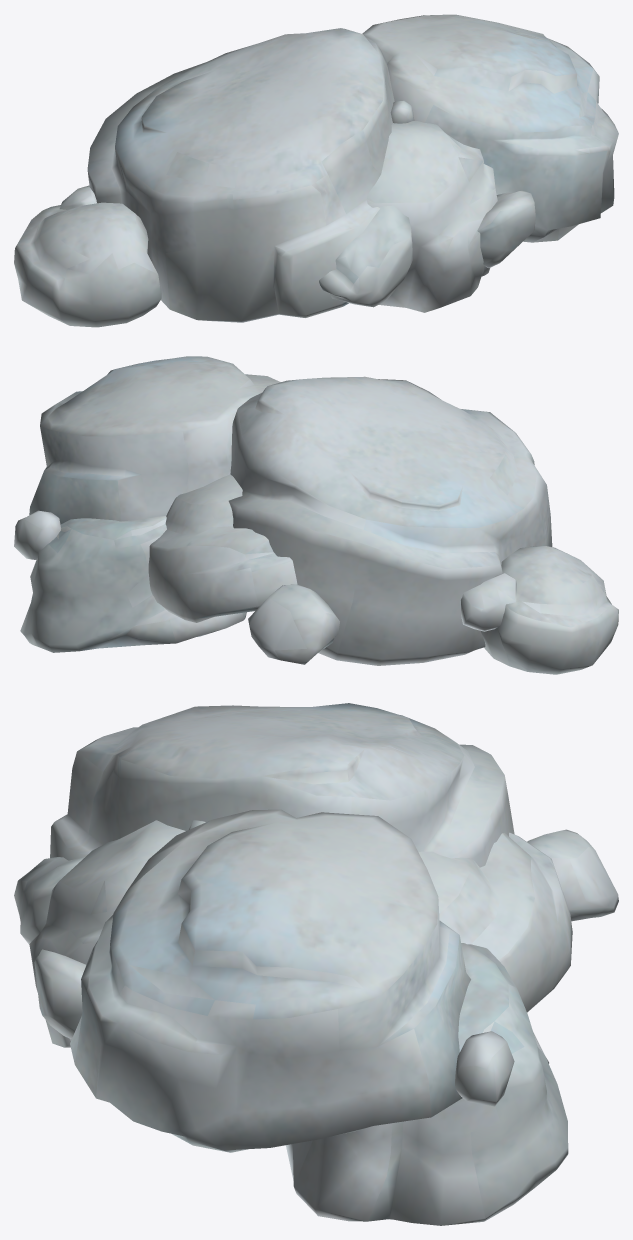
File: P_RockDesert_Clump09.obj
3 views of the same model, one above another, from view 1: azimuth 30°, elevation 25°; view 2: azimuth 150°, elevation 25°; view 3: azimuth 270°, elevation 25° (orthographic). The views are drawn at different scales.
Size of the model in its own units: 11.73 by 5.13 by 8.15.
